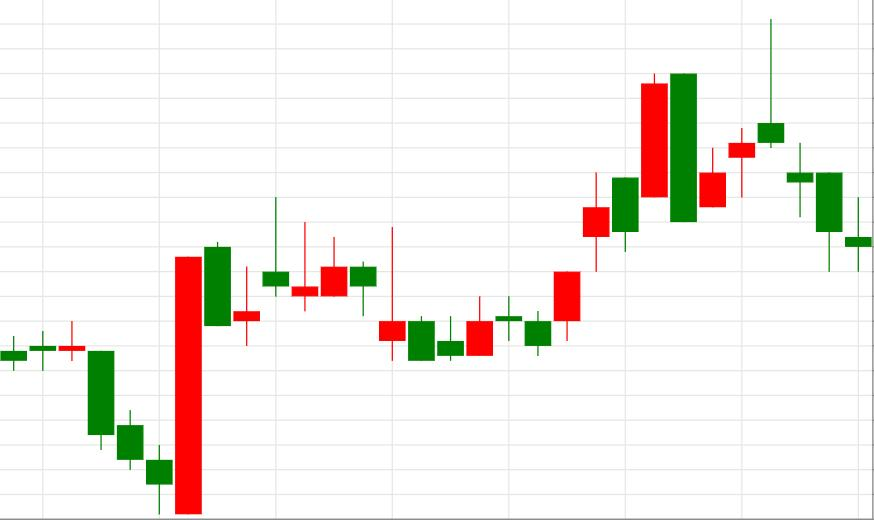bearish_engulfing_fall: (466, 74, 696, 356)
